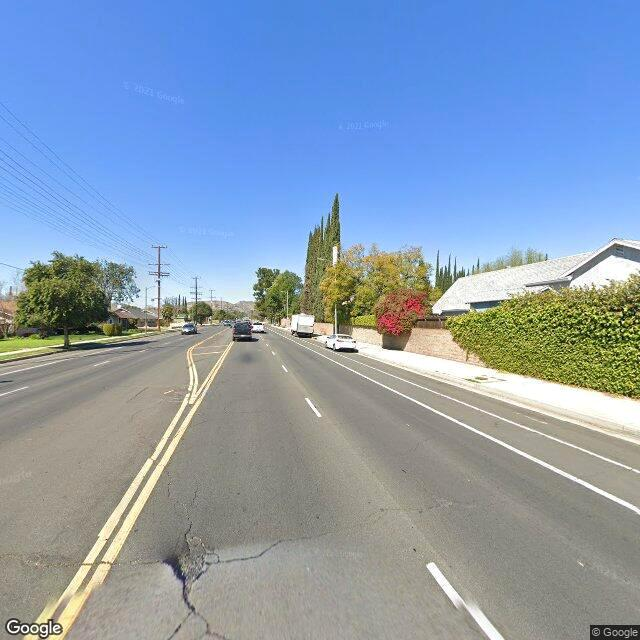pothole: (158, 521, 222, 619)
